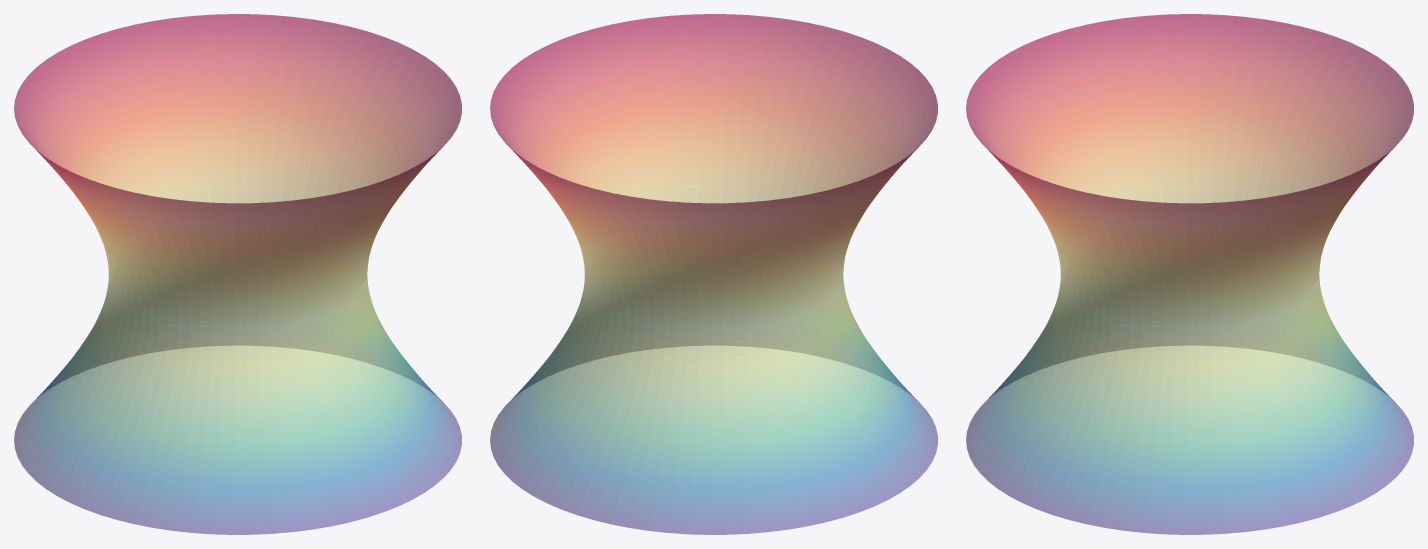
The model's file is hiperboloide1.gltf.
3 renders of one model, left to right at view 1: azimuth 30°, elevation 25°; view 2: azimuth 150°, elevation 25°; view 3: azimuth 270°, elevation 25°, orthographic.
Parts seen in each view (by area): view 1: Renderer Node; view 2: Renderer Node; view 3: Renderer Node.
Part boxes in pixels (x1,y1,x2,y2): Renderer Node: [14, 14, 461, 534]; Renderer Node: [490, 14, 937, 534]; Renderer Node: [966, 14, 1413, 534].
Bounding box in the file's own units: 4.9 × 4 × 4.9.
Materials: 1 (1 with a texture image).
